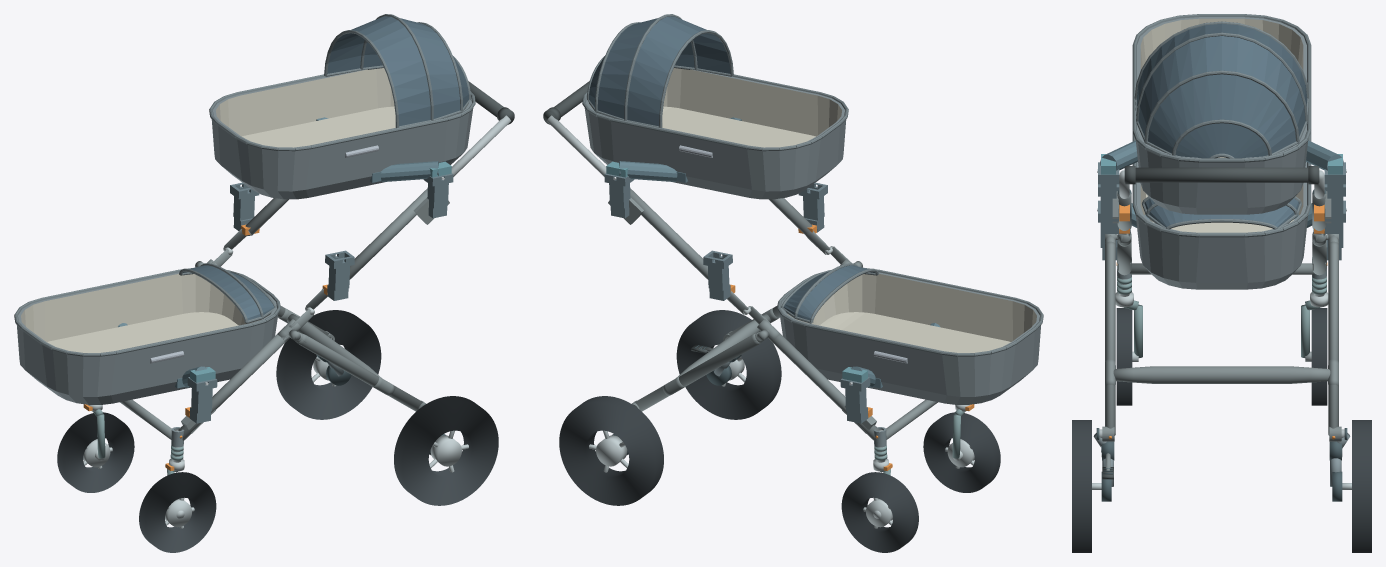
File: D03_w550_state1_wheel_M.glb
3 renders of one model, left to right at view 1: azimuth 30°, elevation 25°; view 2: azimuth 150°, elevation 25°; view 3: azimuth 270°, elevation 25°, orthographic. The views are drawn at different scales.
Visible parts, largest first — view 1: D03_Upper, D03_Lower, RL_tire.002, RR_tire.002, FL_tire.002, FR_tire.002, V46_rear_leg_-1.003, main_lower_-1.003, D03_Upper_Mount_H, main_upper_-1.003, Universal_Cabin_Receiver_M_-1, Universal_Cabin_Receiver_L_-1 (+5 smaller); view 2: D03_Upper, D03_Lower, RR_tire.002, RL_tire.002, FR_tire.002, FL_tire.002, V46_rear_leg_1.003, main_lower_1.003, D03_Upper_Mount_H, main_upper_1.003, Universal_Cabin_Receiver_M_1, Universal_Cabin_Receiver_L_1 (+5 smaller); view 3: D03_Upper, D03_Lower, V46_rearbar.003, round_handle.002, RL_tire.002, RR_tire.002, V46_rear_leg_1.003, V46_rear_leg_-1.003, D03_Upper_Mount_H, FL_tire.002, FR_tire.002, Universal_Cabin_Receiver_H_1 (+6 smaller).
Boxes of the visible parts, box(x1,y1,x2,y2) form: D03_Upper: box(209, 14, 475, 199); D03_Lower: box(14, 263, 280, 404); RL_tire.002: box(394, 396, 498, 505); RR_tire.002: box(276, 310, 381, 419); FL_tire.002: box(139, 472, 216, 552); FR_tire.002: box(57, 412, 134, 492); V46_rear_leg_-1.003: box(297, 333, 422, 411); main_lower_-1.003: box(178, 334, 288, 440); D03_Upper_Mount_H: box(316, 117, 451, 182); main_upper_-1.003: box(327, 188, 427, 285); Universal_Cabin_Receiver_M_-1: box(325, 250, 354, 300); Universal_Cabin_Receiver_L_-1: box(187, 377, 217, 423); D03_Upper: box(582, 14, 848, 199); D03_Lower: box(777, 263, 1043, 404); RR_tire.002: box(559, 396, 663, 505); RL_tire.002: box(676, 310, 781, 419); FR_tire.002: box(841, 472, 918, 552); FL_tire.002: box(923, 412, 1000, 492); V46_rear_leg_1.003: box(635, 333, 760, 411); main_lower_1.003: box(769, 334, 879, 440); D03_Upper_Mount_H: box(606, 117, 741, 182); main_upper_1.003: box(630, 188, 730, 285); Universal_Cabin_Receiver_M_1: box(703, 250, 732, 300); Universal_Cabin_Receiver_L_1: box(840, 377, 870, 423); D03_Upper: box(1132, 14, 1311, 214); D03_Lower: box(1132, 132, 1311, 289); V46_rearbar.003: box(1113, 366, 1330, 383); round_handle.002: box(1124, 167, 1319, 182); RL_tire.002: box(1072, 420, 1091, 552); RR_tire.002: box(1352, 420, 1371, 552); V46_rear_leg_1.003: box(1328, 241, 1338, 435); V46_rear_leg_-1.003: box(1105, 241, 1115, 435); D03_Upper_Mount_H: box(1097, 140, 1346, 174); FL_tire.002: box(1116, 308, 1132, 405); FR_tire.002: box(1311, 308, 1327, 405); Universal_Cabin_Receiver_H_1: box(1324, 162, 1345, 221).
Size of the model in its own units: 1.38 by 1.3 by 0.6771.
